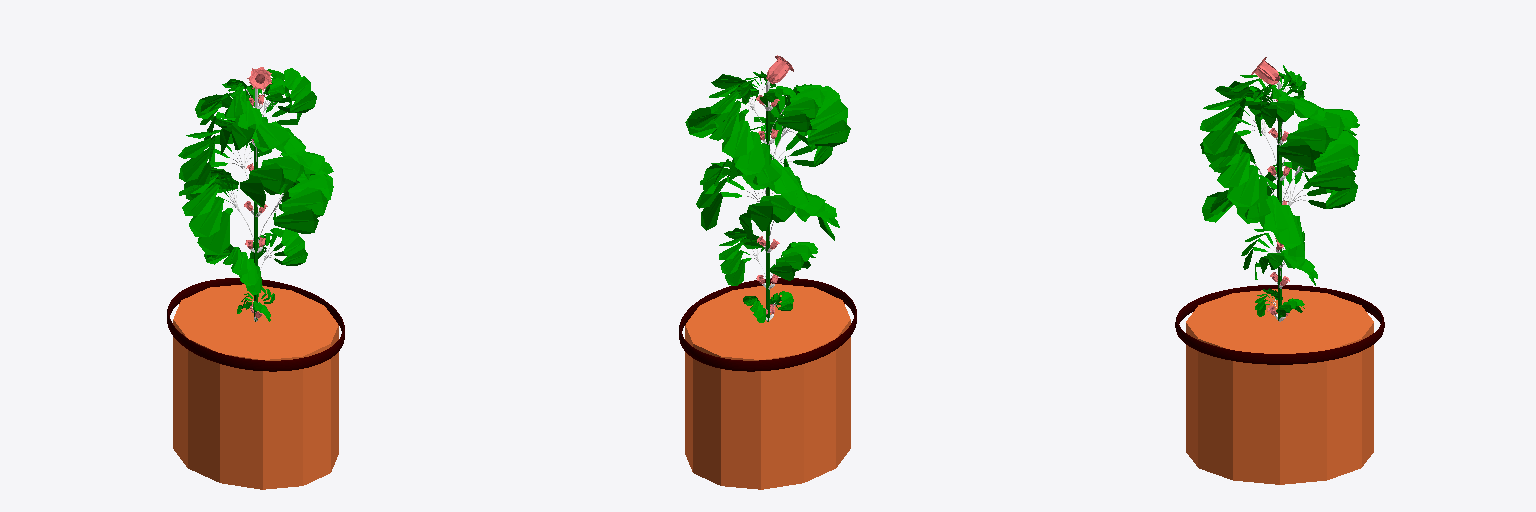
File: flor no vaso.obj
The picture shows the model from 3 angles: view 1: azimuth 30°, elevation 25°; view 2: azimuth 150°, elevation 25°; view 3: azimuth 270°, elevation 25°; orthographic projection.
Visible parts, largest first — view 1: cylinder, boca de lobo, torus; view 2: cylinder, boca de lobo, torus; view 3: cylinder, boca de lobo, torus.
Part boxes in pixels (bbox=[...]): cylinder: bbox=[173, 284, 338, 489]; boca de lobo: bbox=[178, 67, 333, 321]; torus: bbox=[167, 278, 344, 371]; cylinder: bbox=[685, 284, 850, 489]; boca de lobo: bbox=[685, 55, 850, 322]; torus: bbox=[679, 278, 856, 371]; cylinder: bbox=[1186, 289, 1373, 484]; boca de lobo: bbox=[1200, 57, 1359, 321]; torus: bbox=[1175, 285, 1384, 364].
Bounding box in the file's own units: 445 × 1149 × 557.